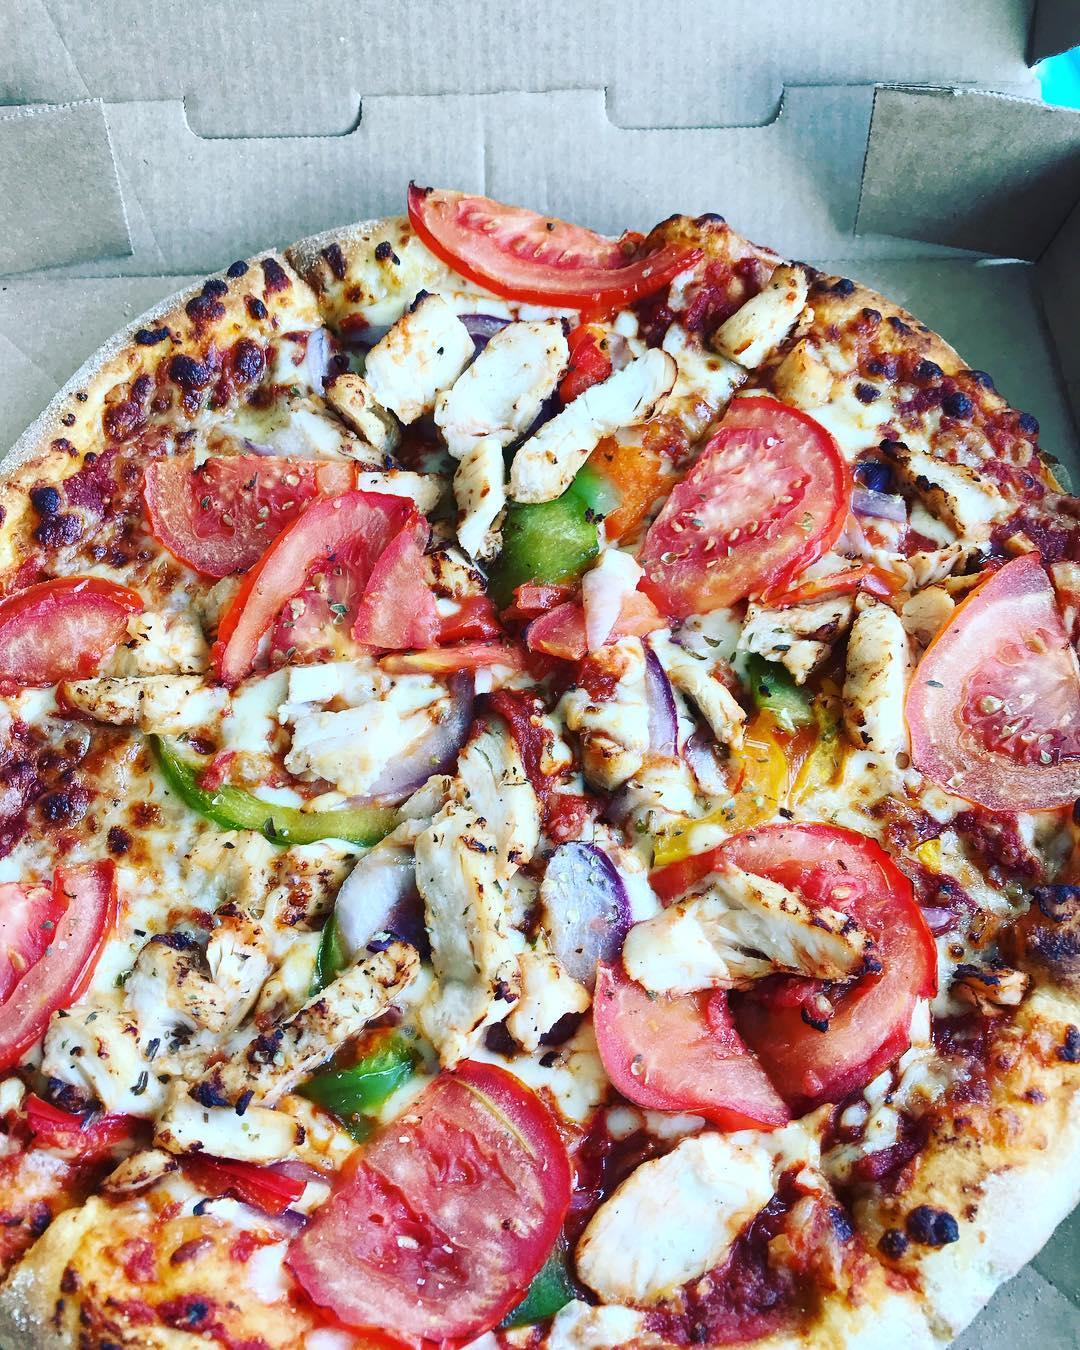Chicken: (564, 1112, 845, 1307), (192, 932, 420, 1111), (401, 791, 522, 1066), (504, 343, 680, 507), (114, 892, 281, 1037), (284, 673, 472, 803), (422, 314, 575, 462), (455, 701, 557, 883), (360, 288, 482, 434), (148, 1078, 320, 1160), (875, 435, 1007, 542), (838, 584, 917, 759), (641, 629, 749, 756), (498, 924, 593, 1059), (705, 259, 816, 371), (18, 1000, 134, 1103), (43, 665, 247, 722), (734, 593, 863, 681), (446, 425, 512, 566), (575, 711, 655, 797), (773, 332, 846, 419), (322, 372, 391, 458)
Onion: (536, 831, 640, 1007), (324, 818, 431, 973), (352, 669, 475, 798), (630, 629, 702, 773)
Peppers: (25, 1090, 307, 1218), (139, 725, 409, 856), (651, 716, 788, 864), (479, 472, 618, 611), (281, 1019, 435, 1134), (487, 1217, 584, 1329), (745, 652, 823, 726), (292, 911, 348, 980)
Pizza: (0, 182, 1080, 1350)
Tomatoes: (648, 812, 942, 1124), (282, 1047, 576, 1348), (640, 385, 851, 619), (903, 541, 1080, 817), (196, 482, 435, 683), (400, 183, 711, 312), (588, 950, 793, 1135), (127, 447, 371, 585), (0, 855, 123, 1079), (0, 568, 147, 708)
